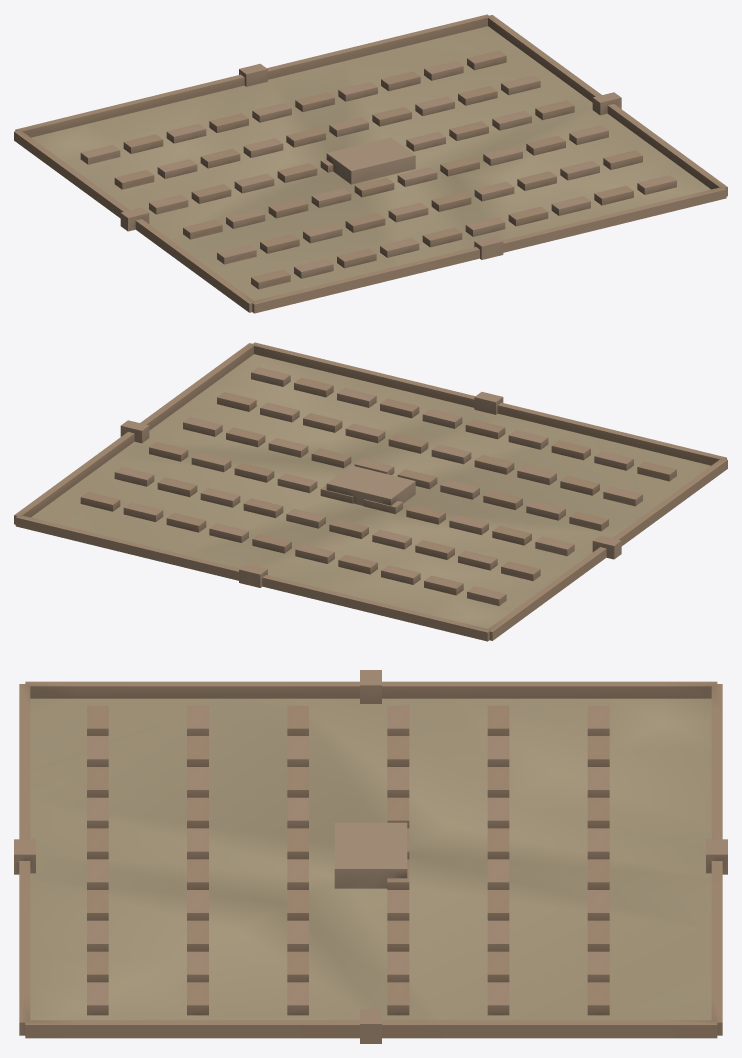
File: castra-praetoria.glb
3 renders of one model, top to bottom at view 1: azimuth 30°, elevation 25°; view 2: azimuth 150°, elevation 25°; view 3: azimuth 270°, elevation 25°, orthographic. The views are drawn at different scales.
Visible parts, largest first — view 1: p0_walls, p2_barracks, p1_gates; view 2: p0_walls, p2_barracks, p1_gates; view 3: p0_walls, p2_barracks, p1_gates.
Part boxes in pixels (box(x1,y1,x2,y2)): p0_walls: box(14, 14, 727, 313); p2_barracks: box(80, 50, 676, 289); p1_gates: box(120, 63, 621, 259); p0_walls: box(14, 342, 727, 641); p2_barracks: box(80, 367, 676, 605); p1_gates: box(120, 392, 621, 587); p0_walls: box(19, 681, 722, 1038); p2_barracks: box(87, 705, 609, 1015); p1_gates: box(14, 670, 727, 1043).
Bounding box in the file's own units: 460 × 12.78 × 392.
